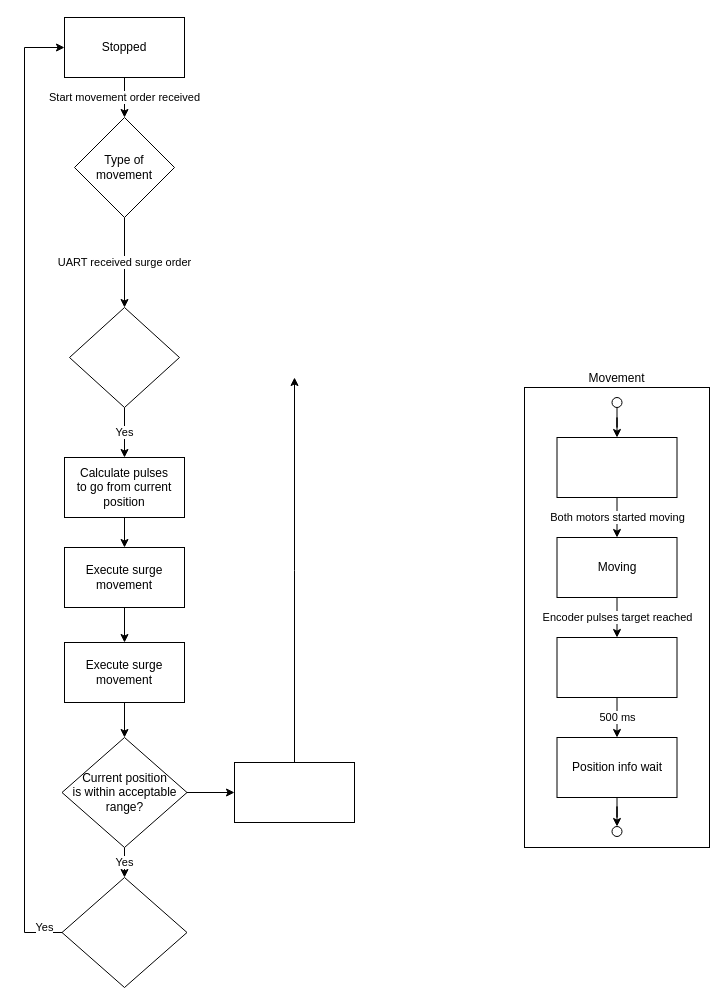
The diagram is 727 pixels wide and 1005 high, and some of its shapes have lost their labels. Each missing label, with the centre of its shape:
"Brakes" goes at [616,667].
"Calculate new movement" goes at [294,792].
"Current angle is correct direction?" goes at [124,357].
"Current angle is within acceptable range?" goes at [124,932].
"Startup" goes at [616,467].
